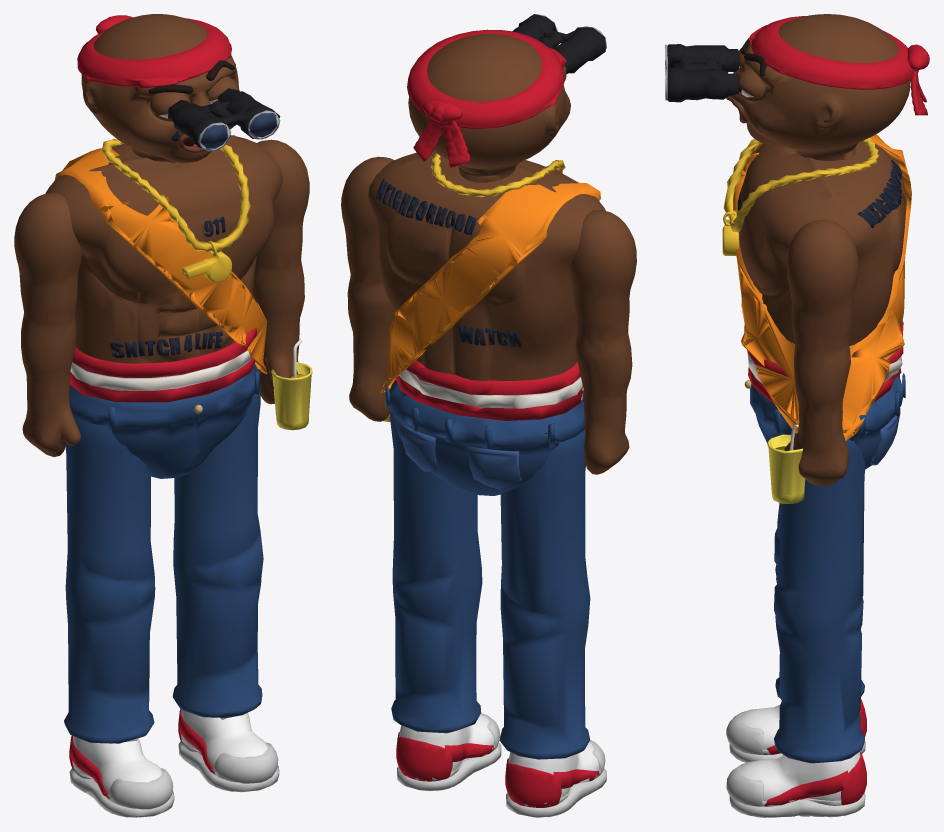
The model's file is two_pack.glb.
The picture shows the model from 3 angles, left to right: view 1: azimuth 30°, elevation 25°; view 2: azimuth 150°, elevation 25°; view 3: azimuth 270°, elevation 25°; orthographic projection.
Parts seen in each view (by area): view 1: Body_Mesh, LegR_Mesh, LegL_Mesh, Head_Mesh, ArmR_Mesh, ArmL_Mesh, Binoculars, Cup; view 2: Body_Mesh, LegR_Mesh, LegL_Mesh, Head_Mesh, ArmR_Mesh, ArmL_Mesh, Binoculars; view 3: Body_Mesh, LegL_Mesh, Head_Mesh, ArmL_Mesh, Binoculars, LegR_Mesh, Cup.
Part boxes in pixels (<box>): Body_Mesh: <box>45,135,282,478</box>; LegR_Mesh: <box>64,418,174,817</box>; LegL_Mesh: <box>172,385,279,792</box>; Head_Mesh: <box>77,14,239,163</box>; ArmR_Mesh: <box>14,193,82,456</box>; ArmL_Mesh: <box>253,139,309,404</box>; Binoculars: <box>168,88,280,151</box>; Cup: <box>271,339,312,430</box>; Body_Mesh: <box>368,151,605,495</box>; LegR_Mesh: <box>499,429,606,817</box>; LegL_Mesh: <box>390,410,501,791</box>; Head_Mesh: <box>407,29,570,182</box>; ArmR_Mesh: <box>570,210,636,474</box>; ArmL_Mesh: <box>341,156,395,421</box>; Binoculars: <box>512,14,606,74</box>; Body_Mesh: <box>722,134,911,469</box>; LegL_Mesh: <box>726,439,866,817</box>; Head_Mesh: <box>728,14,929,160</box>; ArmL_Mesh: <box>784,219,858,486</box>; Binoculars: <box>665,44,739,102</box>; LegR_Mesh: <box>726,503,866,762</box>; Cup: <box>767,424,805,503</box>.
Bounding box in the file's own units: 0.721 × 1.8 × 0.5724.
